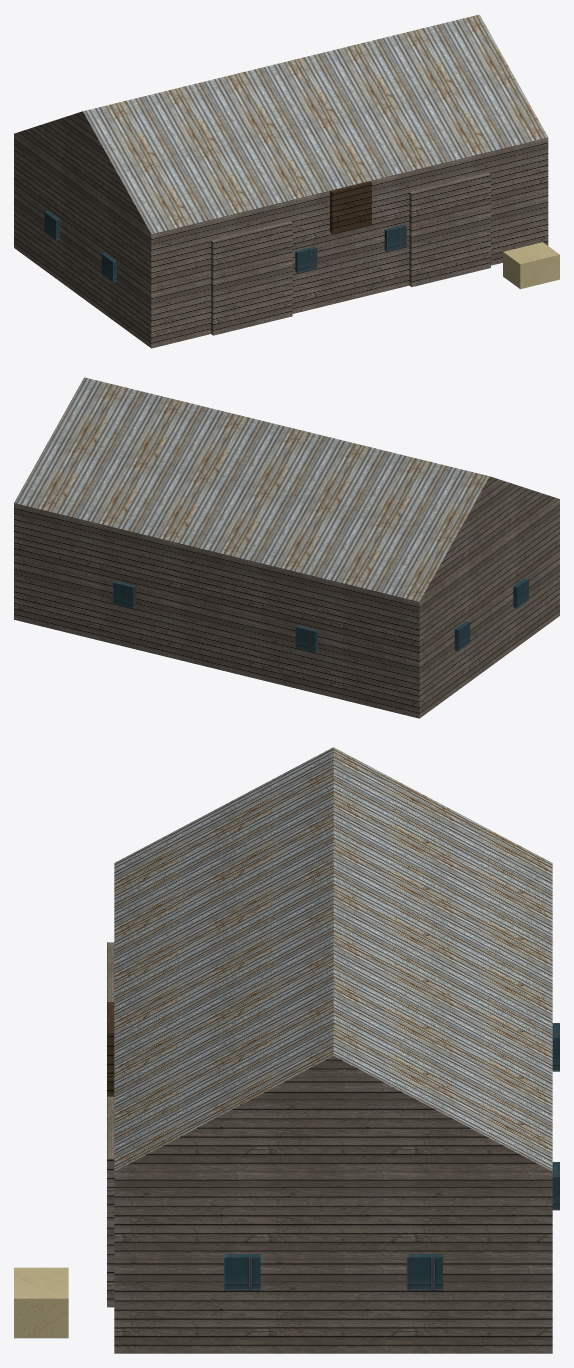
Rendered from hay-barn_lod0.gltf.
The picture shows the model from 3 angles, top to bottom: view 1: azimuth 30°, elevation 25°; view 2: azimuth 150°, elevation 25°; view 3: azimuth 270°, elevation 25°; orthographic projection. The views are drawn at different scales.
Visible parts, largest first — view 1: hay-barn_roof, hay-barn_walls, hay-barn__sliding_door_a, hay-barn__sliding_door_b, hay-barn_gable_ends, hay-barn__hay_bales, hay-barn_fen_18-timber-siding_0_t, hay-barn_fen_07-glass-curtain-blue_1; view 2: hay-barn_walls, hay-barn_roof, hay-barn_gable_ends, hay-barn_fen_07-glass-curtain-blue_1; view 3: hay-barn_roof, hay-barn_walls, hay-barn_gable_ends, hay-barn__hay_bales, hay-barn_fen_07-glass-curtain-blue_1, hay-barn__sliding_door_b, hay-barn_fen_18-timber-siding_0_t.
Boxes of the visible parts, box(x1,y1,x2,y2) form: hay-barn_roof: box(83, 14, 547, 234); hay-barn_walls: box(14, 134, 548, 348); hay-barn__sliding_door_a: box(211, 221, 292, 335); hay-barn__sliding_door_b: box(409, 173, 490, 286); hay-barn_gable_ends: box(14, 111, 150, 233); hay-barn__hay_bales: box(503, 242, 559, 289); hay-barn_fen_18-timber-siding_0_t: box(330, 181, 371, 233); hay-barn_fen_07-glass-curtain-blue_1: box(44, 211, 406, 282); hay-barn_walls: box(14, 499, 559, 718); hay-barn_roof: box(14, 377, 489, 601); hay-barn_gable_ends: box(420, 476, 559, 601); hay-barn_fen_07-glass-curtain-blue_1: box(113, 578, 528, 652); hay-barn_roof: box(114, 747, 552, 1171); hay-barn_walls: box(114, 1171, 552, 1353); hay-barn_gable_ends: box(115, 1056, 551, 1171); hay-barn__hay_bales: box(14, 1267, 68, 1338); hay-barn_fen_07-glass-curtain-blue_1: box(224, 1023, 559, 1290); hay-barn__sliding_door_b: box(107, 1096, 114, 1307); hay-barn_fen_18-timber-siding_0_t: box(107, 1002, 114, 1096).
Size of the model in its own units: 20.4 by 9 by 14.95.
